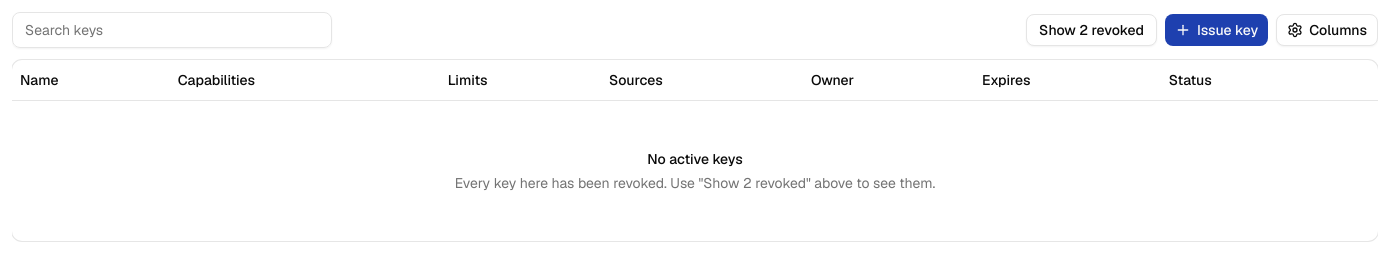
Test: when every key has been revoked › says so rather than suggesting none was ever issued
Expected: the text "No active keys" is shown, [647, 150, 743, 168]
Expected: the text "Every key here has been revoked" is shown, [455, 174, 935, 192]
Note: And the way out is named in the message and present on the screen.
Step 1. Click the button "Show 2 revoked" → (1092, 30), box [1026, 14, 1157, 46]
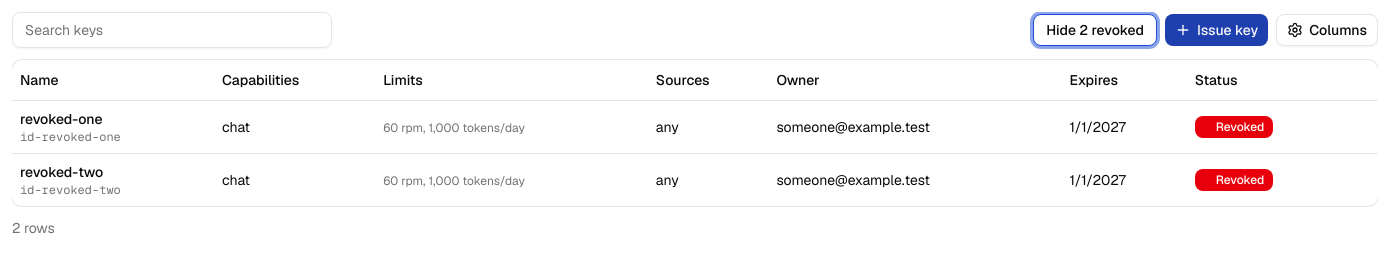
Now the text "revoked-one" is shown, box [20, 110, 102, 128]
